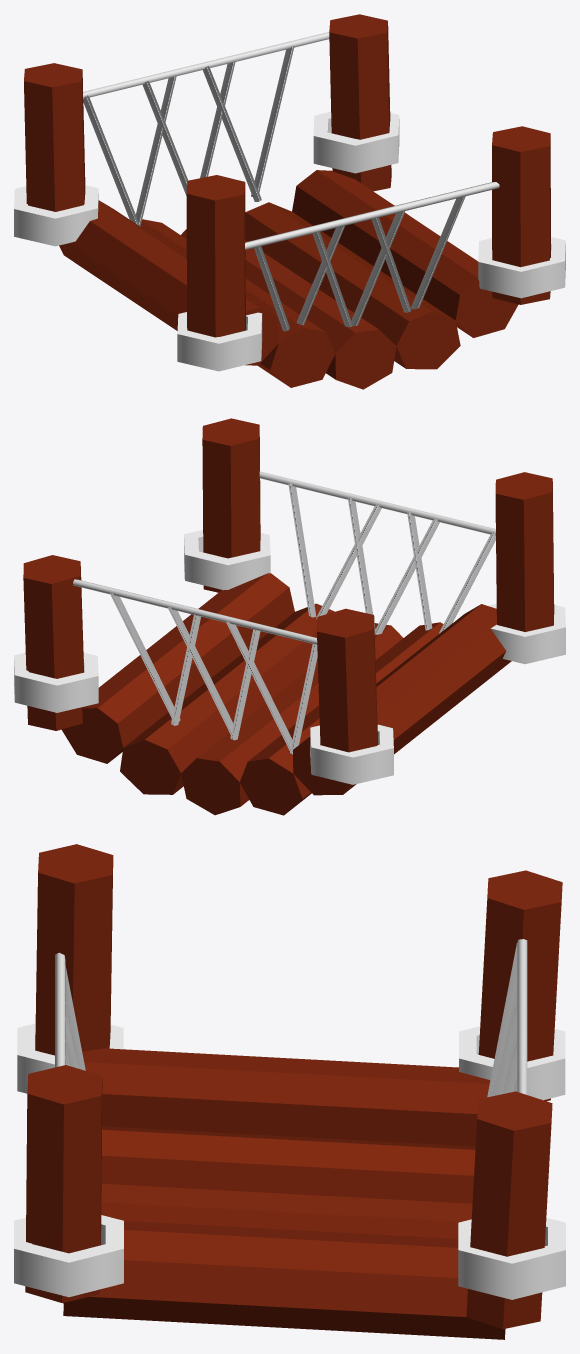
Rendered from puente.fbx.
3 renders of one model, top to bottom at view 1: azimuth 30°, elevation 25°; view 2: azimuth 150°, elevation 25°; view 3: azimuth 270°, elevation 25°, orthographic. The views are drawn at different scales.
Visible parts, largest first — view 1: puente, cuerda, aros; view 2: puente, cuerda, aros; view 3: puente, aros, cuerda.
Part boxes in pixels (x1,y1,x2,y2): puente: [24, 14, 550, 389]; cuerda: [83, 32, 499, 331]; aros: [14, 111, 565, 371]; puente: [23, 418, 554, 815]; cuerda: [73, 471, 495, 754]; aros: [14, 530, 565, 784]; puente: [25, 844, 562, 1339]; aros: [14, 1023, 565, 1299]; cuerda: [55, 939, 527, 1097].
Bounding box in the file's own units: 326 × 200 × 305.
